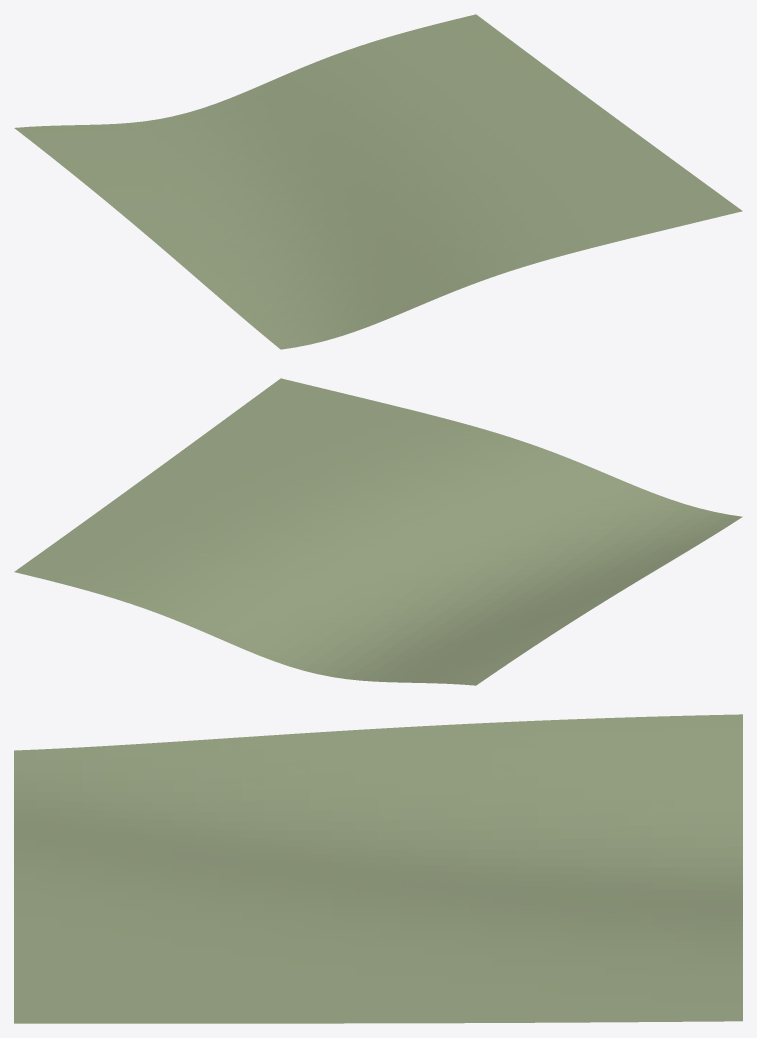
Rendered from desert-14-27.glb.
3 renders of one model, top to bottom at view 1: azimuth 30°, elevation 25°; view 2: azimuth 150°, elevation 25°; view 3: azimuth 270°, elevation 25°, orthographic. The views are drawn at different scales.
Visible parts, largest first — view 1: desert-14-27; view 2: desert-14-27; view 3: desert-14-27.
Boxes of the visible parts, x1,y1,x2,y2 form: desert-14-27: (14,14,742,349); desert-14-27: (14,378,742,685); desert-14-27: (14,714,742,1023).
Size of the model in its own units: 512 by 31.7 by 512.
